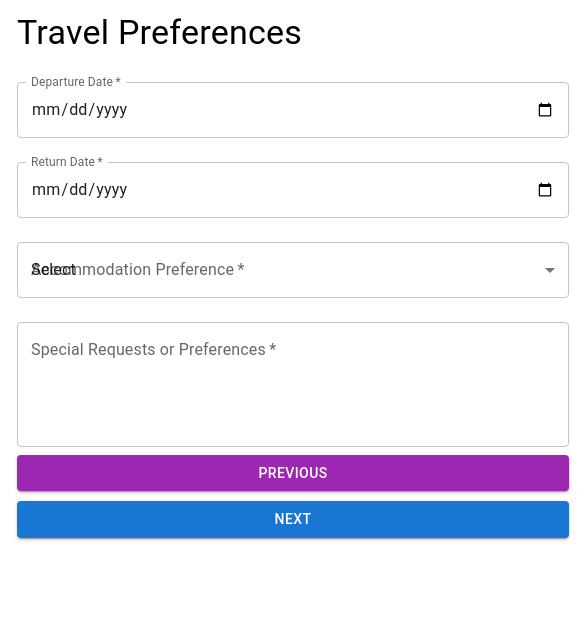
Test: TravelPreferencesForm › displays error messages for empty required fields
Click the button "Next".
click(293, 520)  # box [17,501,569,538]
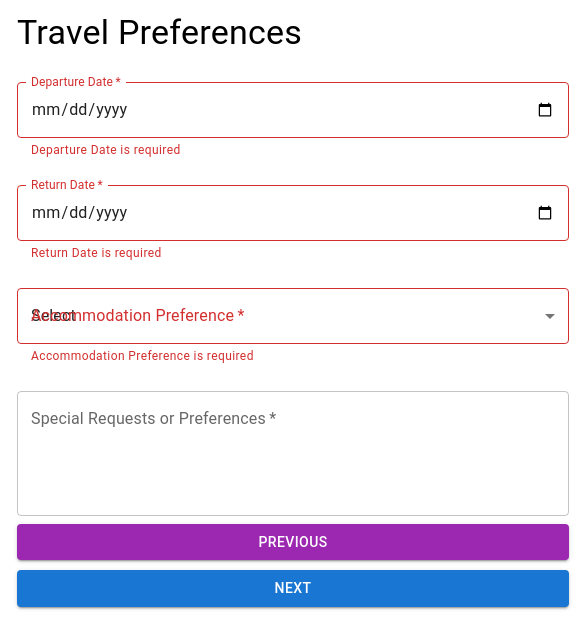
Result: the text "Departure Date is required" is shown at [31,143,181,157]
Result: the text "Return Date is required" is shown at [31,246,162,260]
Result: the text "Accommodation Preference is required" is shown at [31,349,254,363]
